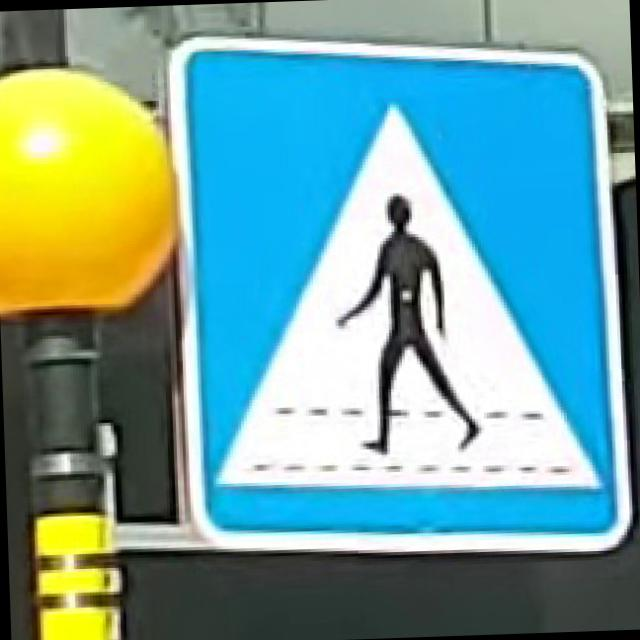zebracrossing_sign: (155, 17, 635, 566)
